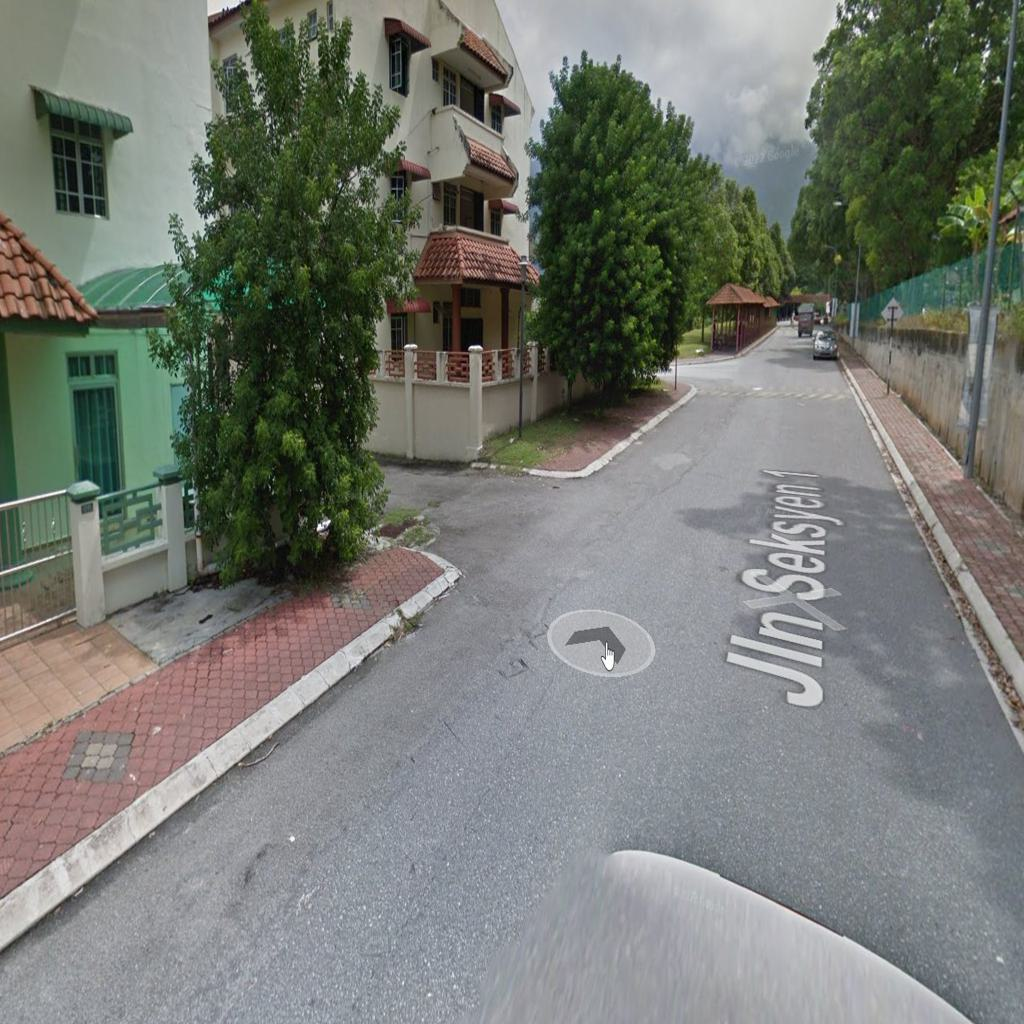Junction: (375, 416, 621, 620)
